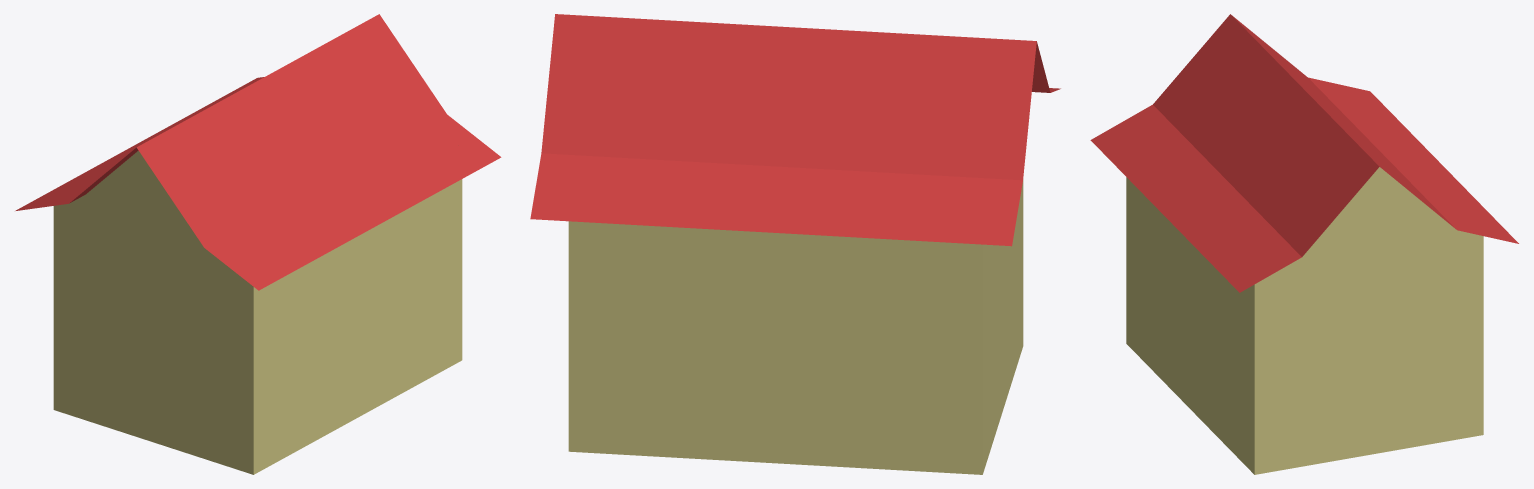
3 views of the same model, side by side, from view 1: azimuth 30°, elevation 25°; view 2: azimuth 150°, elevation 25°; view 3: azimuth 270°, elevation 25° (orthographic). The views are drawn at different scales.
Bounding box in the file's own units: 17.4 × 15.65 × 12.03.
